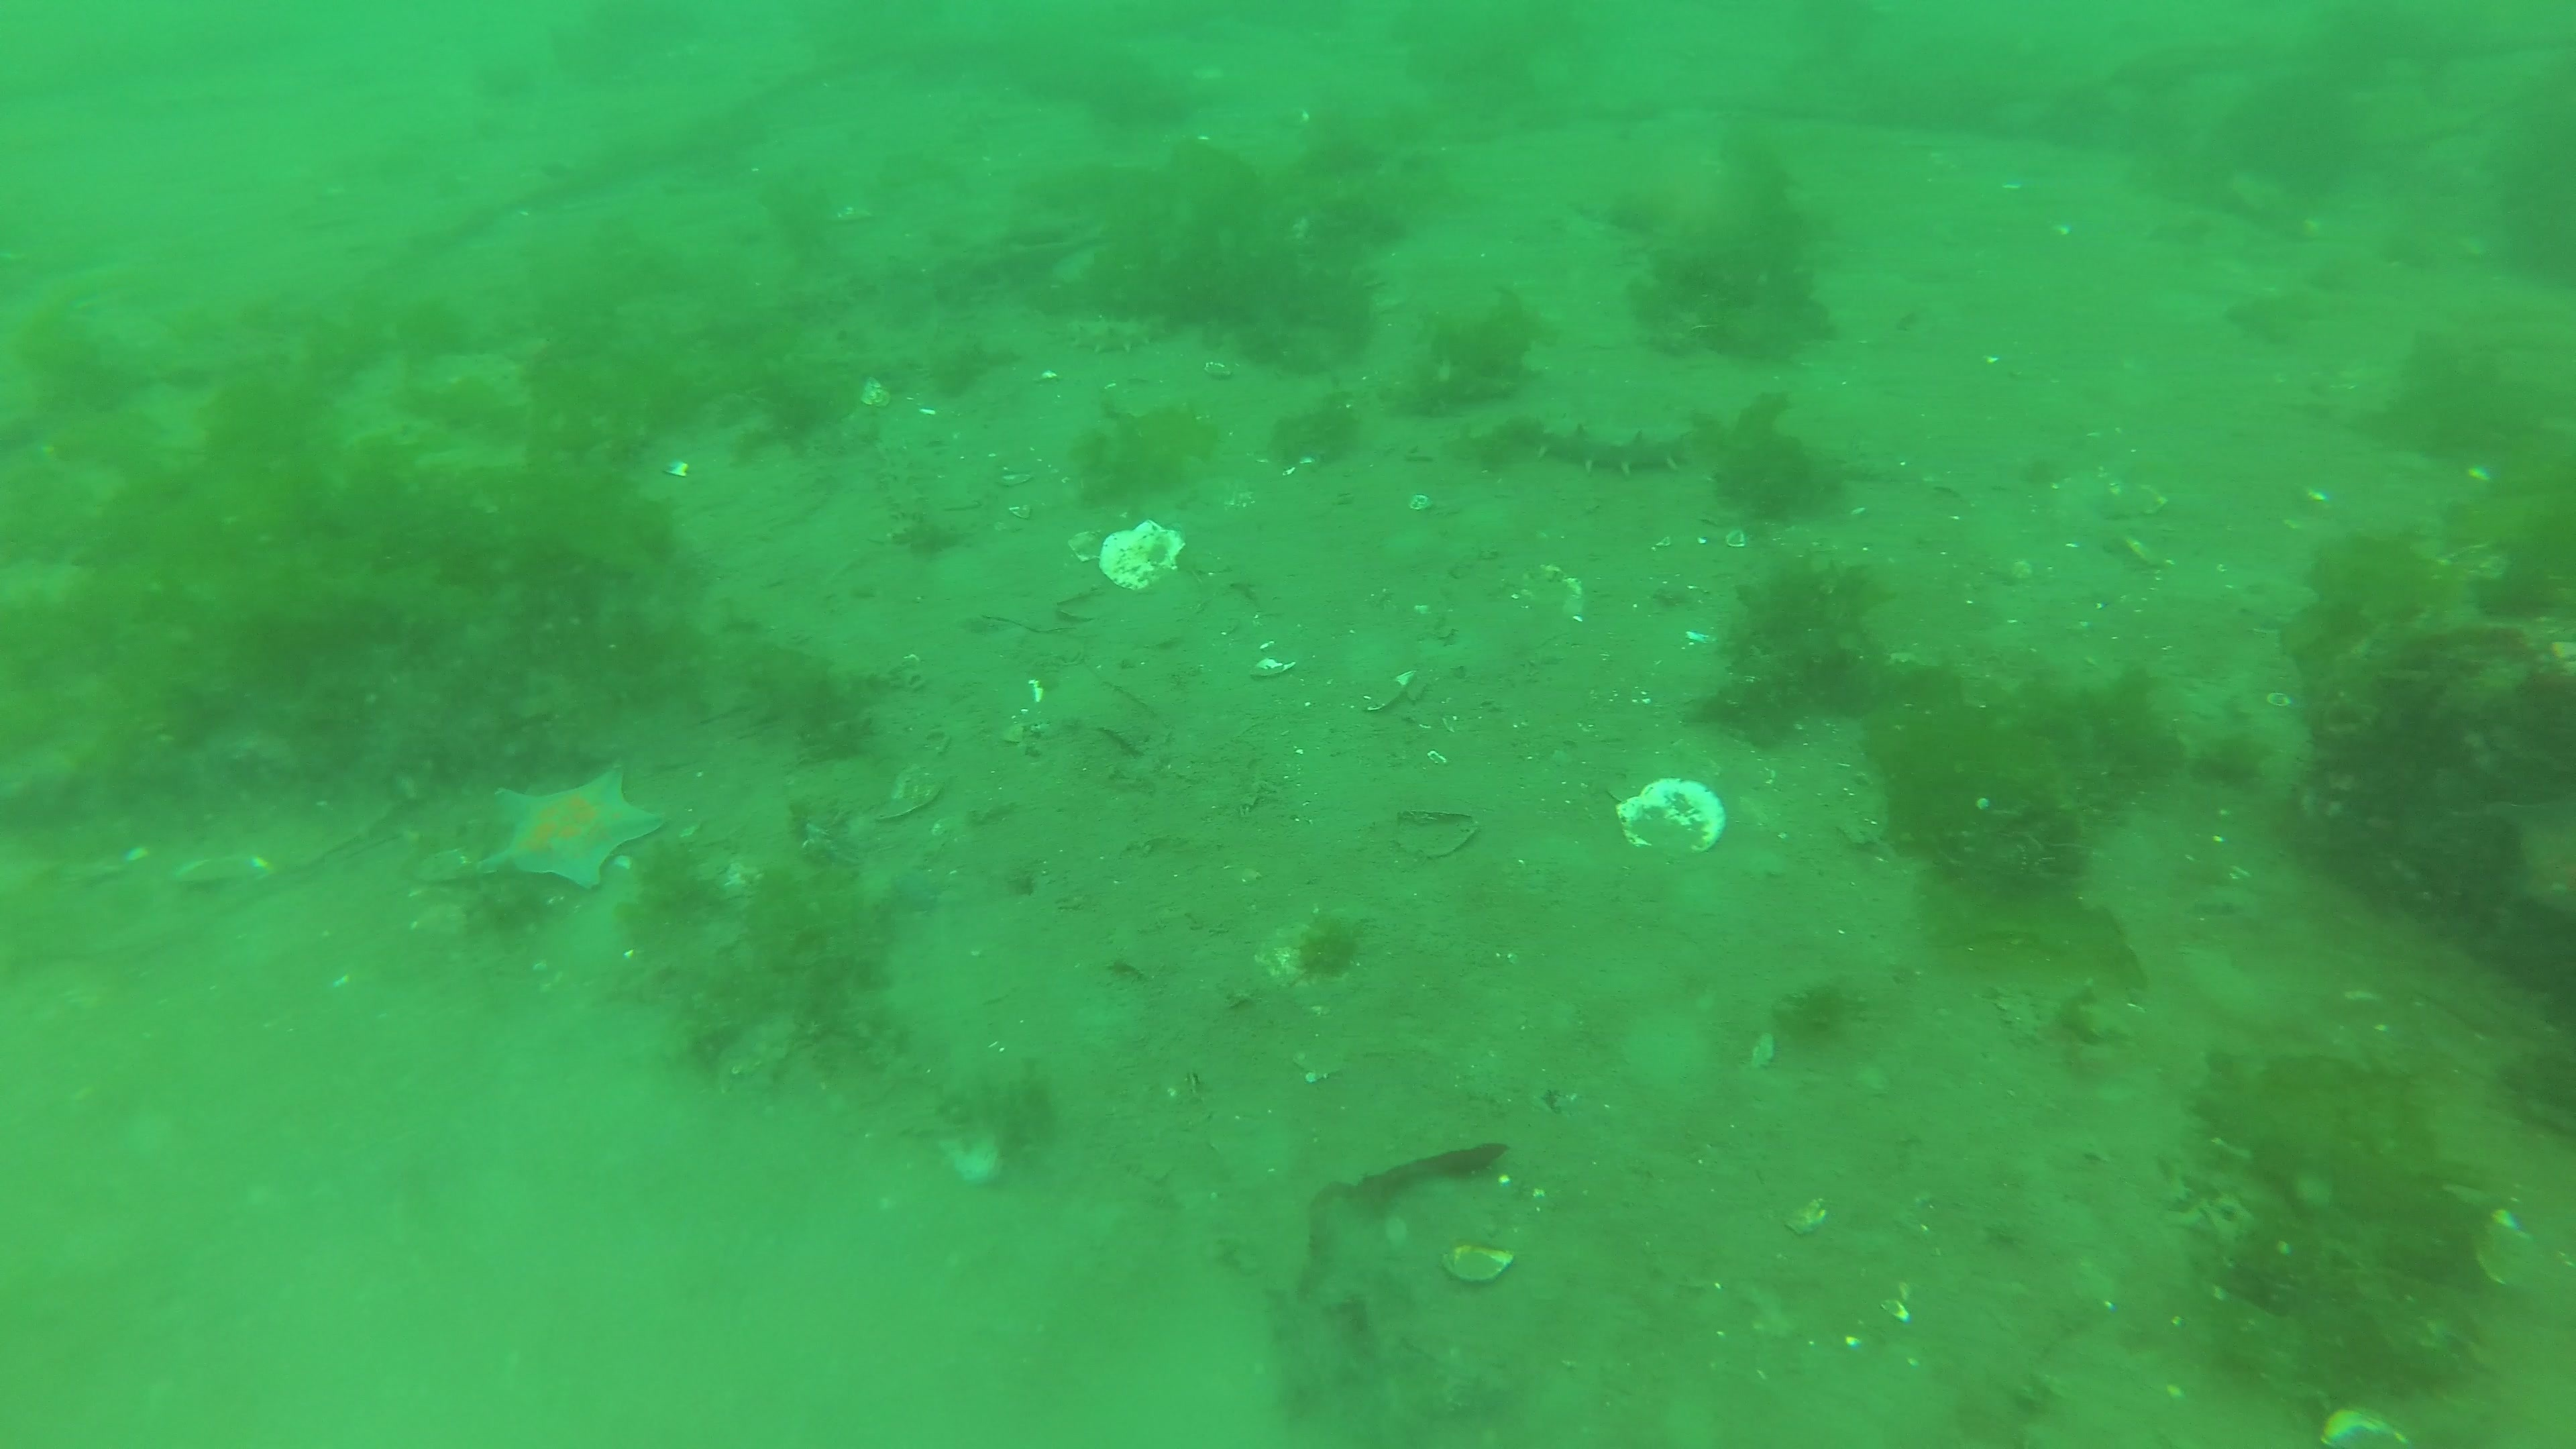holothurian: (1536, 410, 1709, 481), (1056, 311, 1169, 359)
scallop: (1614, 778, 1732, 858), (1093, 517, 1189, 596)
starfish: (487, 766, 671, 893)
